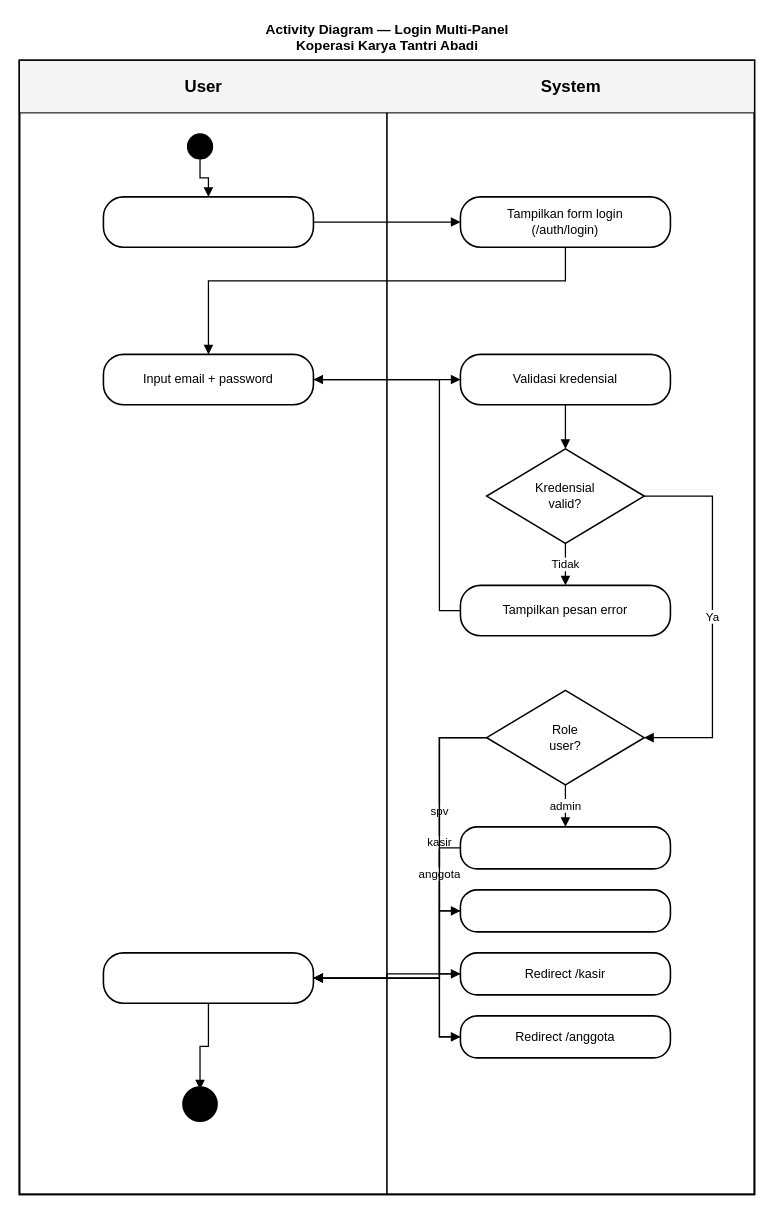
The diagram is 773 pixels wide and 1214 high, and some of its shapes have lost their labels. The centre of each missing label's shape, as x and y in pixels:
Buka halaman login: point 208,222
Masuk panel sesuai role: point 208,978
Redirect /admin: point 565,847
Redirect /spv: point 565,910
